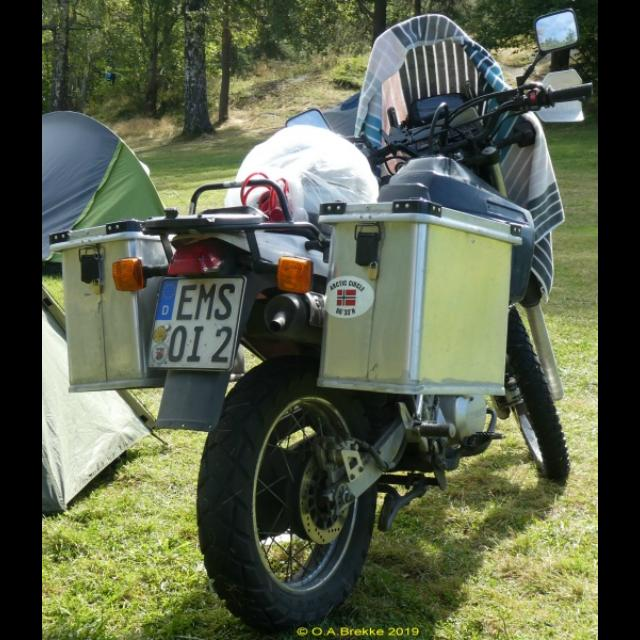d_license_plate: (147, 276, 245, 368)
